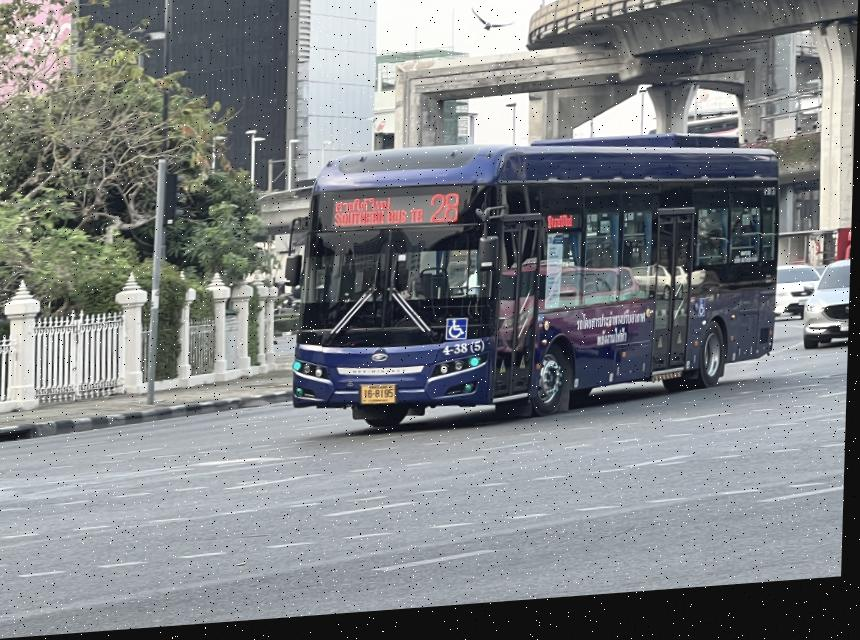Bus Line Number: (429, 196, 465, 233)
Bus Side Number: (444, 346, 488, 365)
Destination Sign: (331, 197, 428, 238)
TSB-Bus: (293, 145, 783, 438)
